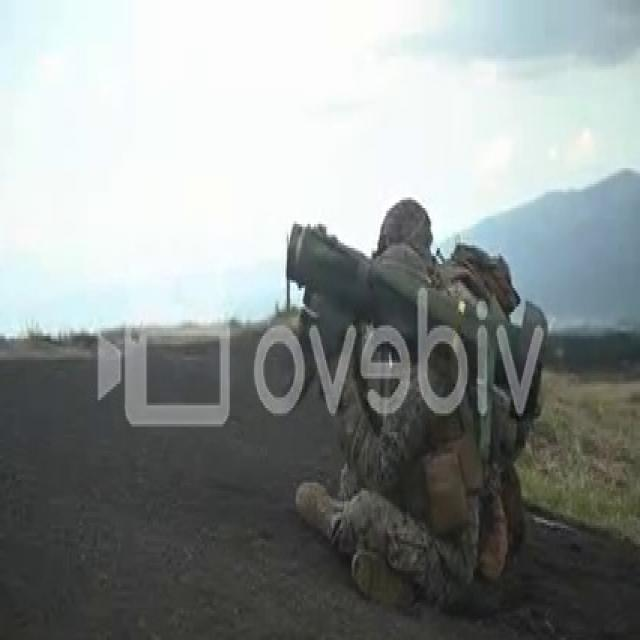rocket: (290, 227, 547, 421)
